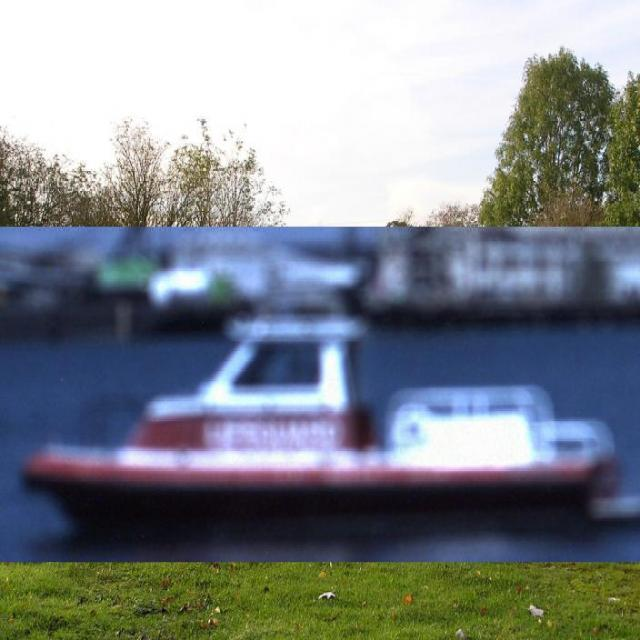CIV_Ship: (0, 226, 639, 562)
